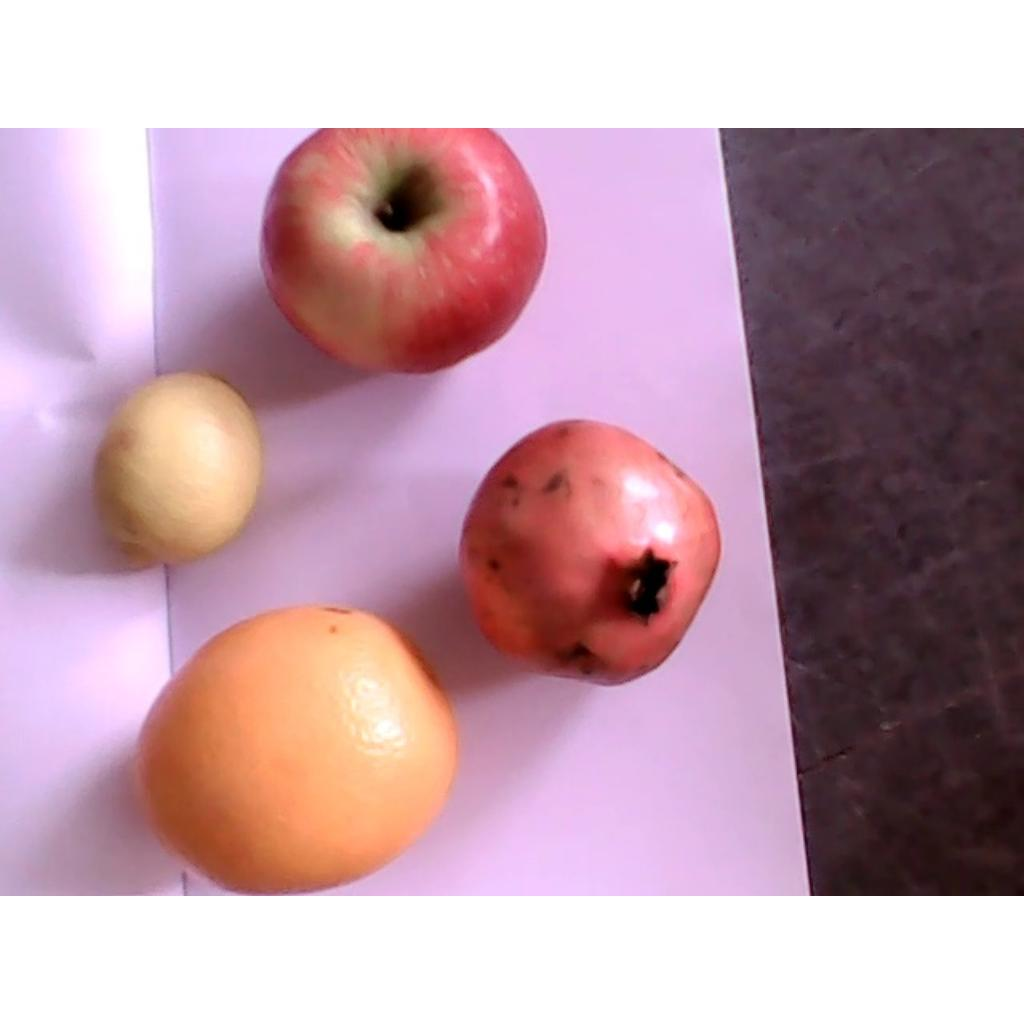apple: (258, 128, 550, 374)
lemon: (91, 371, 261, 564)
orange: (127, 602, 459, 893)
pomegranate: (456, 418, 723, 688)
